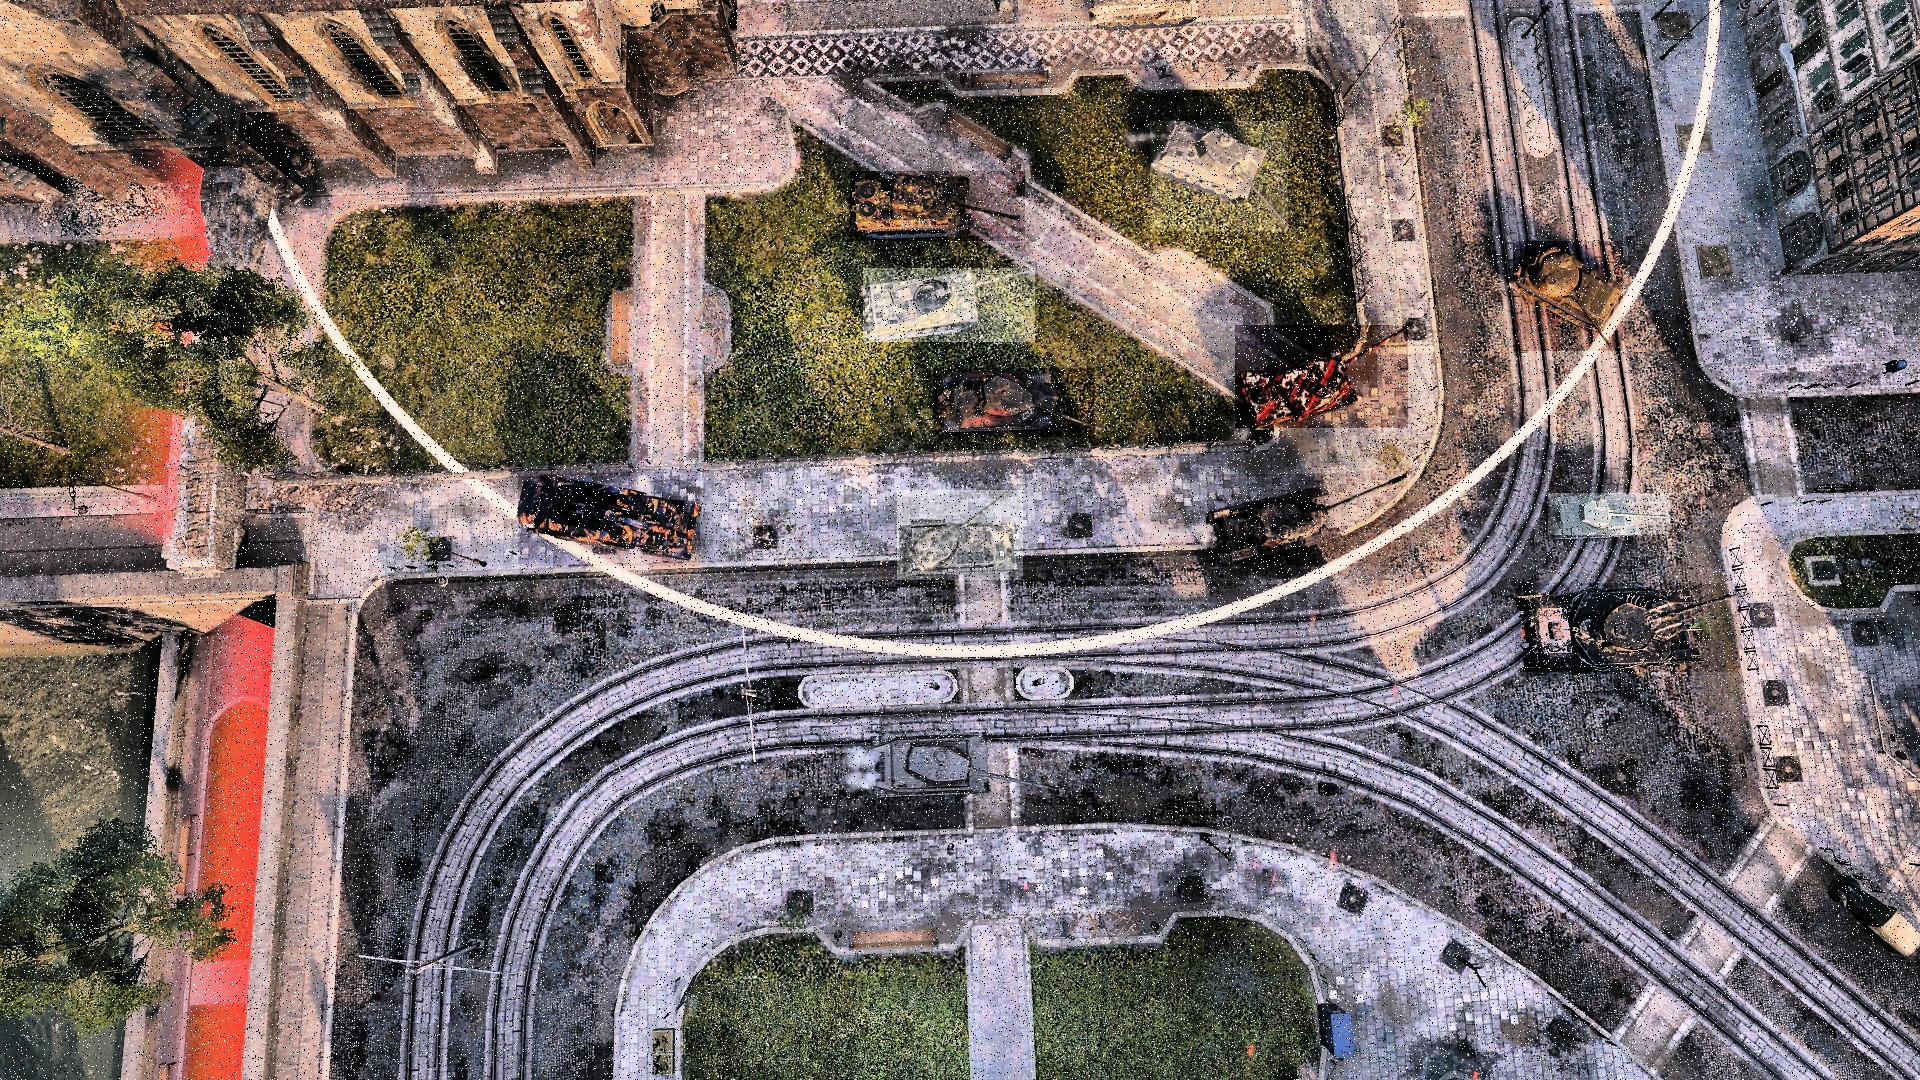military-vehicle: (1515, 583, 1741, 671), (1207, 475, 1408, 567), (1236, 326, 1408, 429), (518, 469, 700, 567), (1150, 121, 1288, 232), (864, 268, 1035, 342), (851, 171, 1025, 241), (1514, 241, 1623, 352), (897, 491, 1023, 580), (934, 368, 1095, 436), (1548, 493, 1669, 535)
